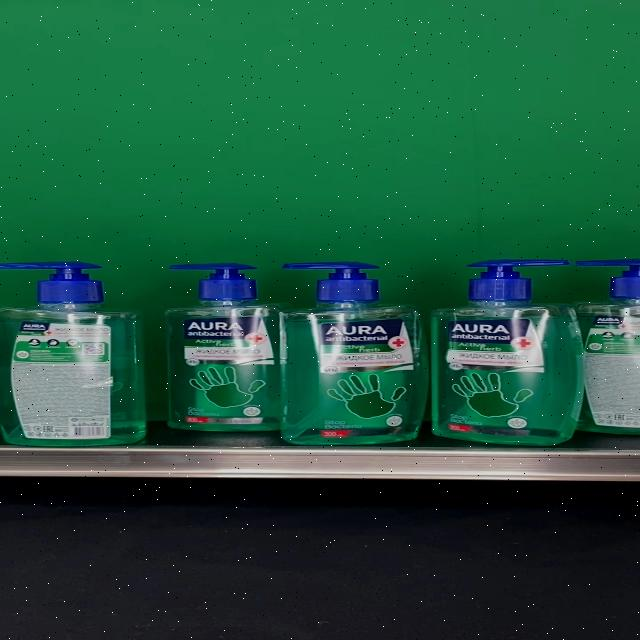Bottle: (430, 258, 583, 446), (0, 261, 146, 446), (280, 262, 428, 444), (164, 263, 294, 431)
Cap: (466, 258, 569, 302), (0, 261, 104, 301), (282, 261, 383, 299), (168, 264, 259, 300)
